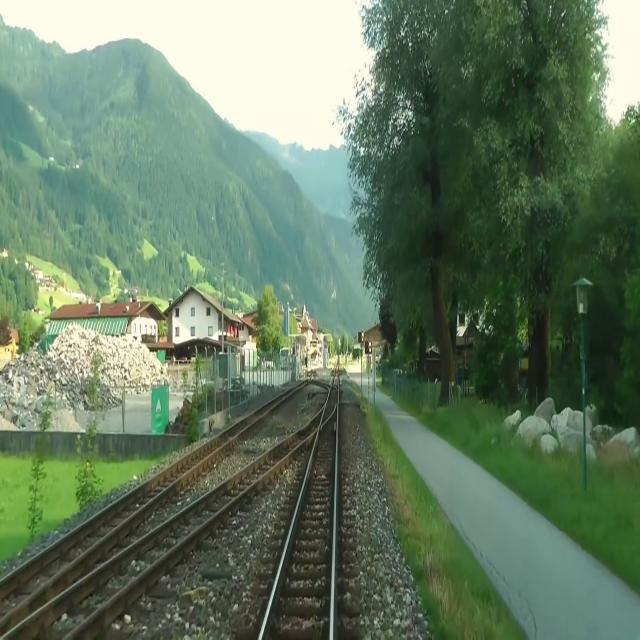rail-track: (5, 415, 320, 639), (0, 423, 244, 618), (263, 414, 335, 639), (324, 389, 336, 416)
